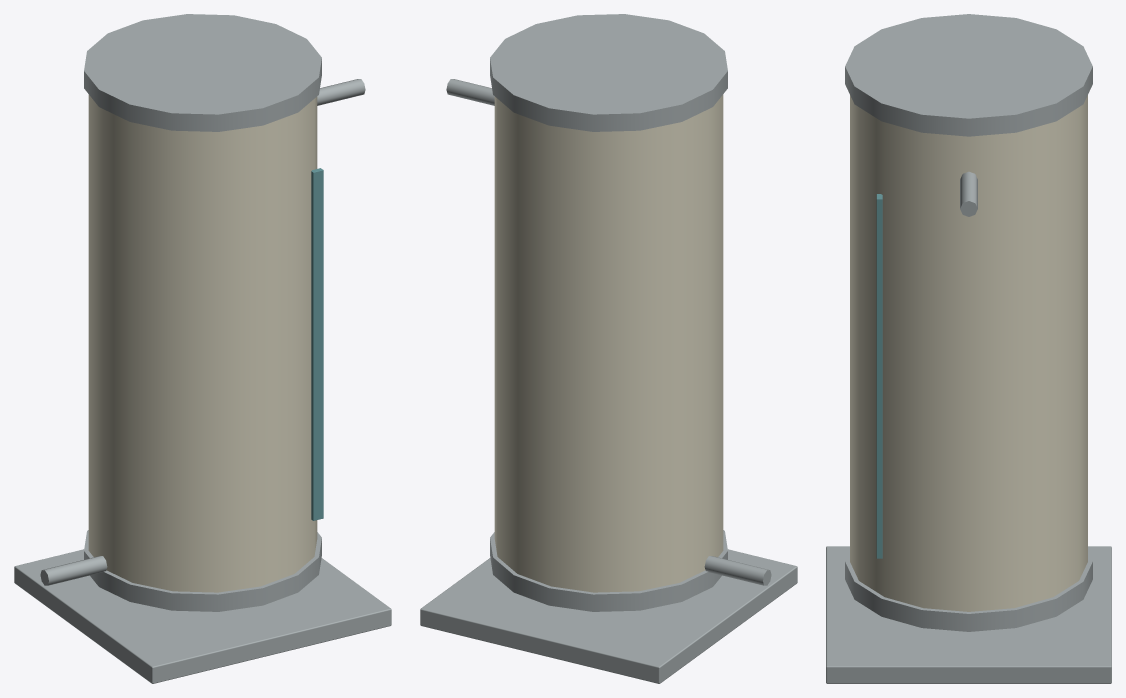
Rendered from water-collection-and-purification-sand-filter-column-14696bfb__20186.glb.
3 renders of one model, left to right at view 1: azimuth 30°, elevation 25°; view 2: azimuth 150°, elevation 25°; view 3: azimuth 270°, elevation 25°, orthographic. The views are drawn at different scales.
Parts seen in each view (by area): view 1: sand-filter-column; view 2: sand-filter-column; view 3: sand-filter-column.
Part boxes in pixels (x1=…): sand-filter-column: x1=14, y1=14, x2=391, y2=683; sand-filter-column: x1=420, y1=14, x2=797, y2=683; sand-filter-column: x1=826, y1=14, x2=1111, y2=683.
Bounding box in the file's own units: 0.76 × 1.24 × 0.576.
